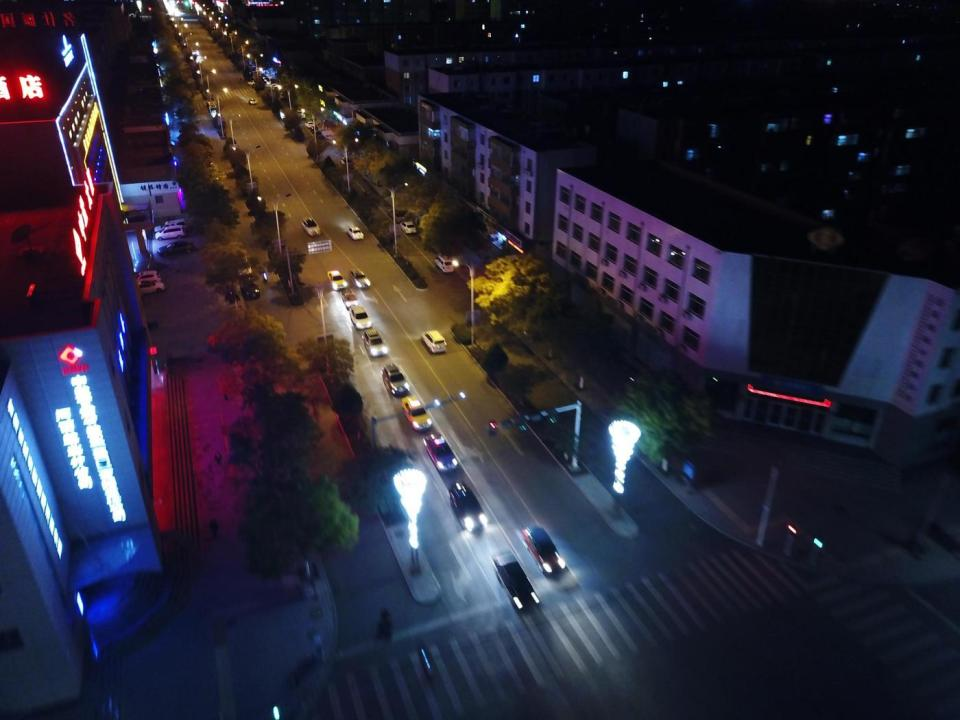car: (492, 550, 539, 609), (520, 526, 565, 574), (447, 480, 489, 530), (423, 434, 458, 472), (401, 395, 433, 431), (381, 364, 410, 396), (362, 328, 386, 356), (156, 240, 196, 256), (349, 306, 372, 330), (155, 225, 186, 240), (327, 270, 347, 292), (240, 278, 260, 299), (155, 219, 186, 232), (350, 268, 370, 288), (132, 270, 162, 283), (134, 281, 164, 294), (235, 254, 252, 276), (302, 218, 321, 236), (341, 290, 358, 308), (388, 208, 407, 223), (347, 226, 364, 240), (400, 221, 417, 234), (358, 154, 376, 162), (340, 156, 353, 167), (305, 121, 314, 128), (248, 80, 258, 86), (280, 92, 288, 99), (294, 109, 302, 116), (310, 126, 318, 133), (315, 131, 322, 138), (236, 48, 244, 54), (249, 98, 256, 104), (271, 83, 279, 88), (193, 50, 199, 55), (257, 71, 263, 76), (300, 114, 305, 119), (264, 80, 270, 84), (248, 60, 253, 64), (252, 63, 256, 68), (255, 68, 259, 72), (262, 76, 265, 80)
van: (421, 329, 447, 353), (435, 255, 454, 272)
